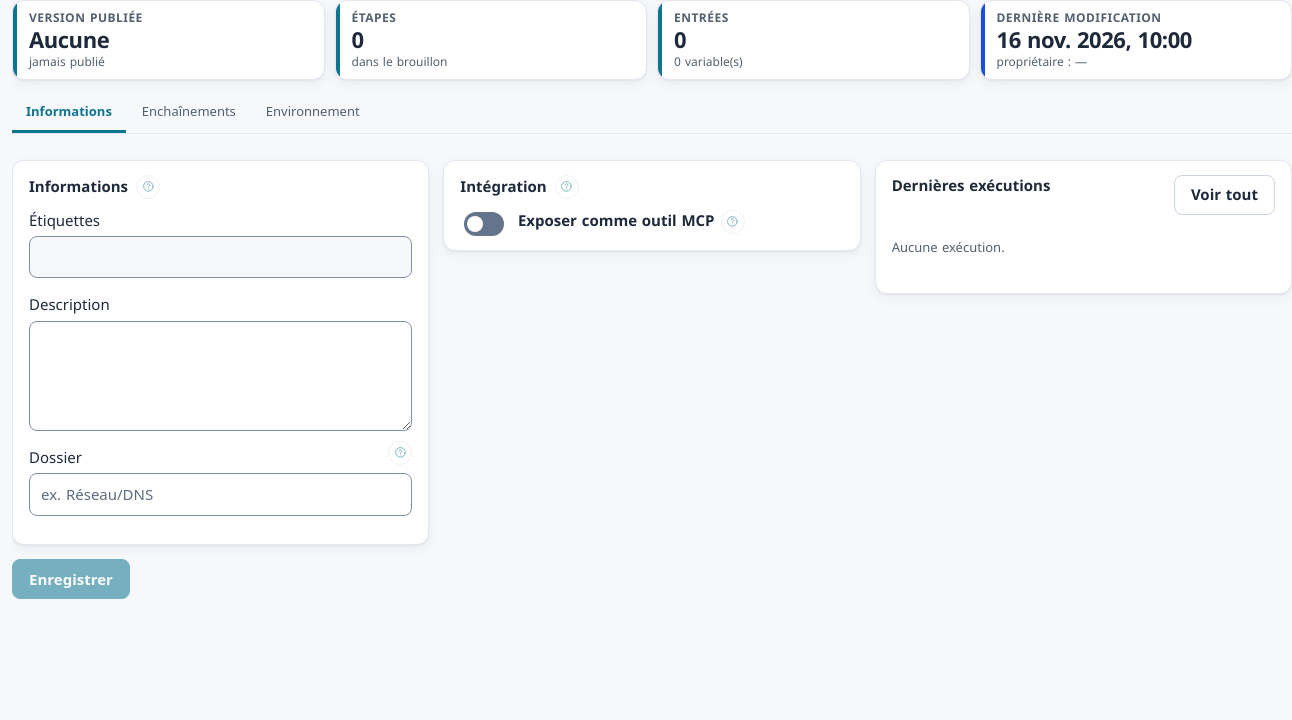
Test case: Réglages d'un workflow : runner imposé › sans le droit de modifier, le choix est en lecture seule
The width and height of the screenshot is (1292, 720).
Click the tab "Environnement" at (313, 114), box [252, 94, 374, 133]
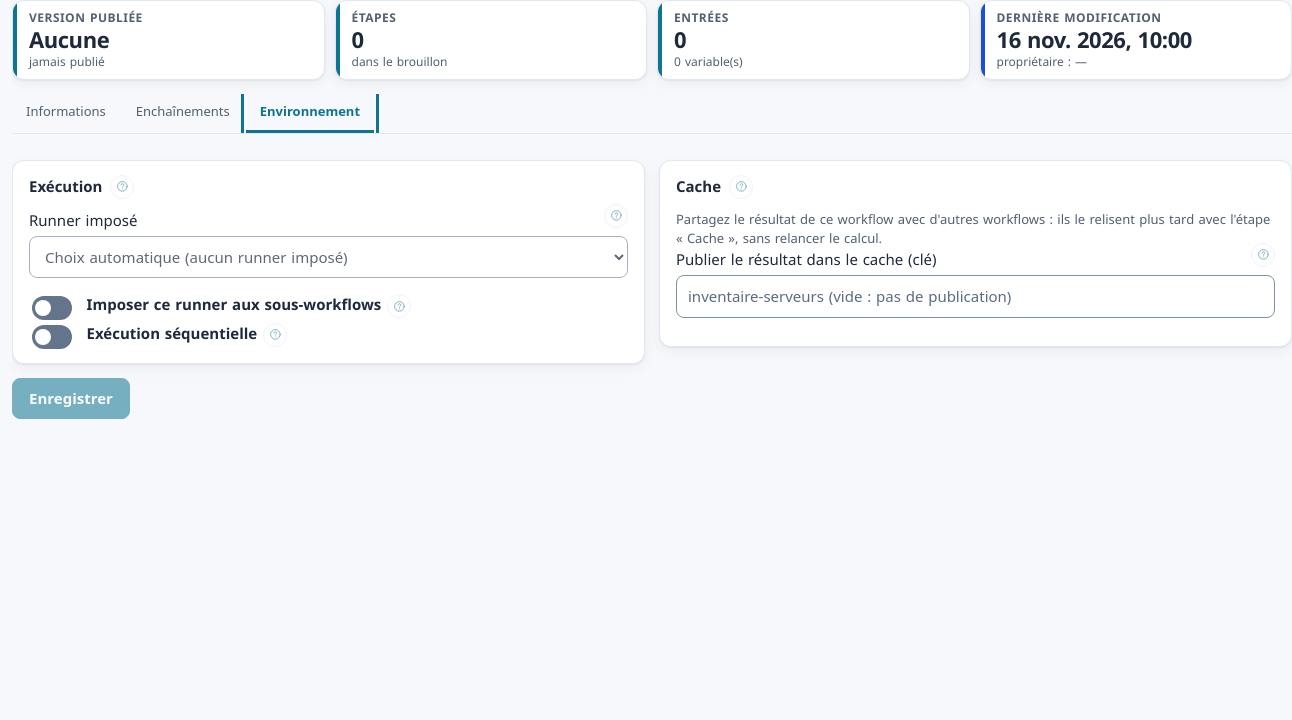
Now the dropdown labelled "Runner imposé" is disabled, box [29, 236, 628, 278]
